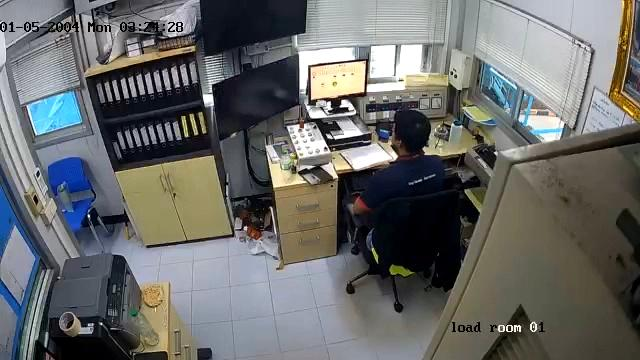Head: (392, 111, 431, 149)
People: (352, 109, 447, 216)
Phone: (297, 168, 321, 187), (309, 165, 334, 183)
